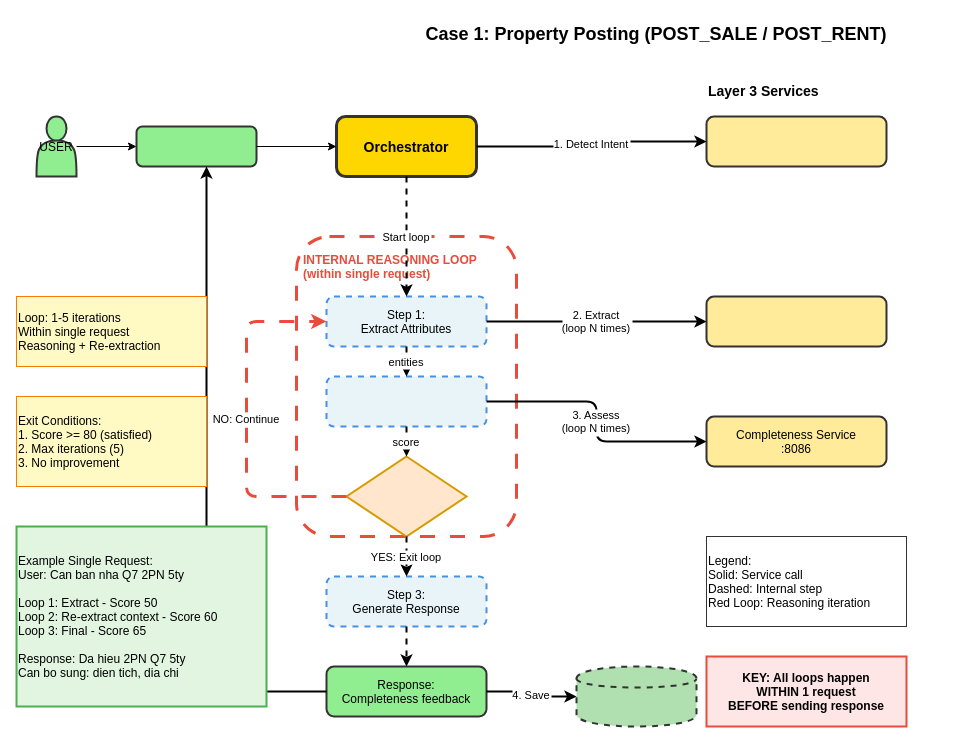
The diagram is 973 pixels wide and 743 high, and some of its shapes have lost their labels. The shapes that lost their labels are listed below. From the top down, each one's box as (x1, y1, x2, y2) in pixels, then its label:
(135, 125, 257, 167): Open WebUI
(705, 115, 887, 167): Classification Service :8083
(705, 295, 887, 347): Extraction Service :8084
(325, 375, 487, 427): Step 2: Assess Completeness
(345, 455, 467, 537): Satisfied? Score >= 80 OR max iter
(575, 665, 697, 727): PostgreSQL Save History
